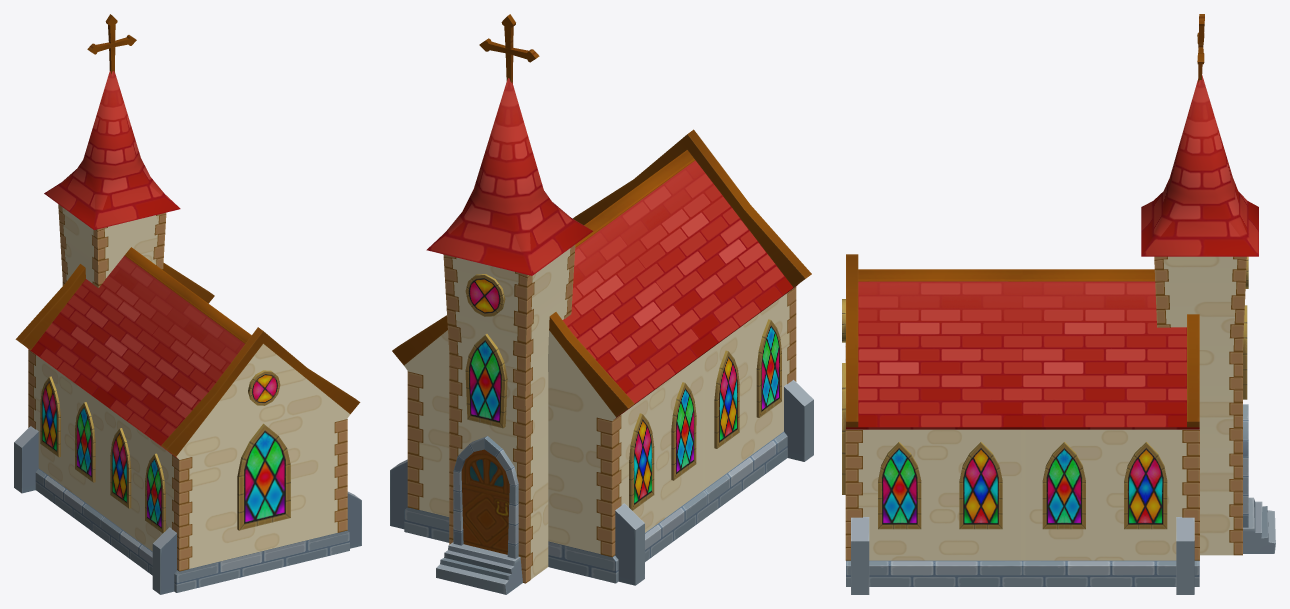
File: HOS0110017.fbx
3 renders of one model, left to right at view 1: azimuth 30°, elevation 25°; view 2: azimuth 150°, elevation 25°; view 3: azimuth 270°, elevation 25°, orthographic. The views are drawn at different scales.
Parts seen in each view (by area): view 1: smHOS0110017; view 2: smHOS0110017; view 3: smHOS0110017.
Boxes of the visible parts, <box> form: smHOS0110017: <box>14,14,361,594</box>; smHOS0110017: <box>390,14,813,594</box>; smHOS0110017: <box>842,14,1275,594</box>.
Size of what is drawn, in the model's own units: 630 by 1334 by 1002.
Materials: 1 (1 with a texture image).
